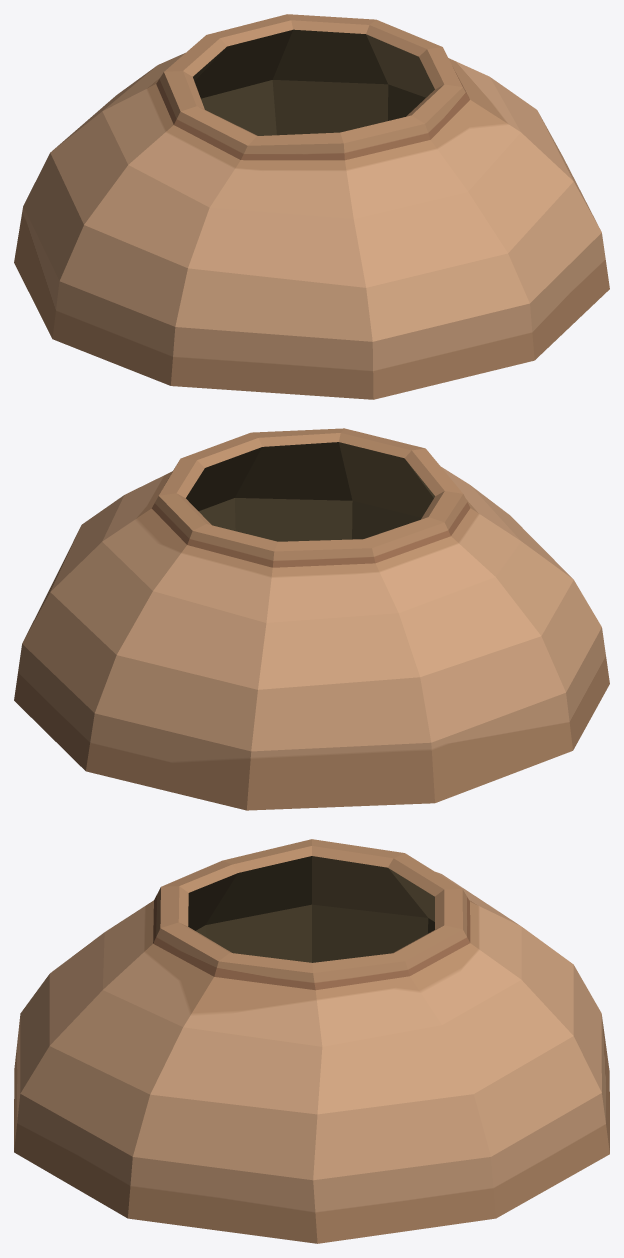
File: SM_Prop_ClayJar_02.glb
3 renders of one model, top to bottom at view 1: azimuth 30°, elevation 25°; view 2: azimuth 150°, elevation 25°; view 3: azimuth 270°, elevation 25°, orthographic. The views are drawn at different scales.
Parts seen in each view (by area): view 1: SM_Prop_ClayJar_02; view 2: SM_Prop_ClayJar_02; view 3: SM_Prop_ClayJar_02.
Part boxes in pixels (<box>): SM_Prop_ClayJar_02: <box>14,14,609,399</box>; SM_Prop_ClayJar_02: <box>14,428,609,810</box>; SM_Prop_ClayJar_02: <box>14,839,609,1243</box>.
Bounding box in the file's own units: 2.21 × 0.8075 × 2.1.
1 material, 1 textured.
